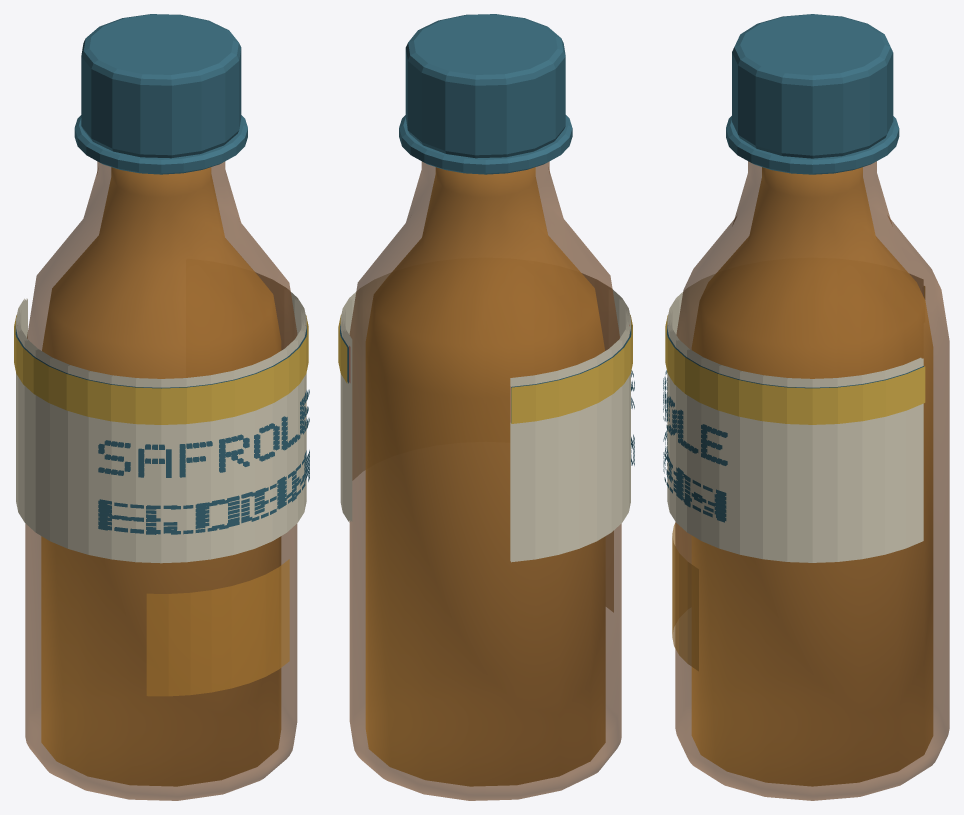
File: safrole.glb
The picture shows the model from 3 angles, left to right: view 1: azimuth 30°, elevation 25°; view 2: azimuth 150°, elevation 25°; view 3: azimuth 270°, elevation 25°; orthographic projection.
Parts seen in each view (by area): view 1: SafroleBottle, SafroleLiquidVolume, SafroleLabel_High, SafroleCap, SafroleLiquid, SafroleLabel_Low, SafroleLabel_Standard, SafroleNeckRing; view 2: SafroleBottle, SafroleLiquidVolume, SafroleLabel_High, SafroleCap, SafroleLabel_Low, SafroleNeckRing, SafroleLabel_Standard, SafroleLiquid; view 3: SafroleBottle, SafroleLiquidVolume, SafroleLabel_High, SafroleCap, SafroleLiquid, SafroleNeckRing, SafroleLabel_Low, SafroleLabel_Standard.
Boxes of the visible parts, box(x1,y1,x2,y2) form: SafroleBottle: box(25, 161, 297, 800); SafroleLiquidVolume: box(41, 167, 281, 786); SafroleLabel_High: box(14, 272, 309, 563); SafroleCap: box(81, 14, 241, 158); SafroleLiquid: box(146, 559, 289, 696); SafroleLabel_Low: box(17, 275, 306, 533); SafroleLabel_Standard: box(15, 274, 308, 534); SafroleNeckRing: box(74, 115, 247, 174); SafroleBottle: box(349, 161, 621, 800); SafroleLiquidVolume: box(365, 167, 605, 786); SafroleLabel_High: box(338, 272, 634, 562); SafroleCap: box(405, 14, 565, 158); SafroleLabel_Low: box(343, 275, 631, 560); SafroleNeckRing: box(399, 115, 572, 174); SafroleLabel_Standard: box(340, 274, 632, 561); SafroleLiquid: box(606, 531, 613, 611); SafroleBottle: box(675, 161, 949, 800); SafroleLiquidVolume: box(691, 167, 933, 786); SafroleLabel_High: box(663, 274, 925, 562); SafroleCap: box(732, 14, 893, 158); SafroleLiquid: box(672, 523, 698, 671); SafroleNeckRing: box(726, 116, 899, 174); SafroleLabel_Low: box(666, 277, 921, 520); SafroleLabel_Standard: box(665, 275, 923, 517).
Bounding box in the file's own units: 0.073 × 0.193 × 0.071.
